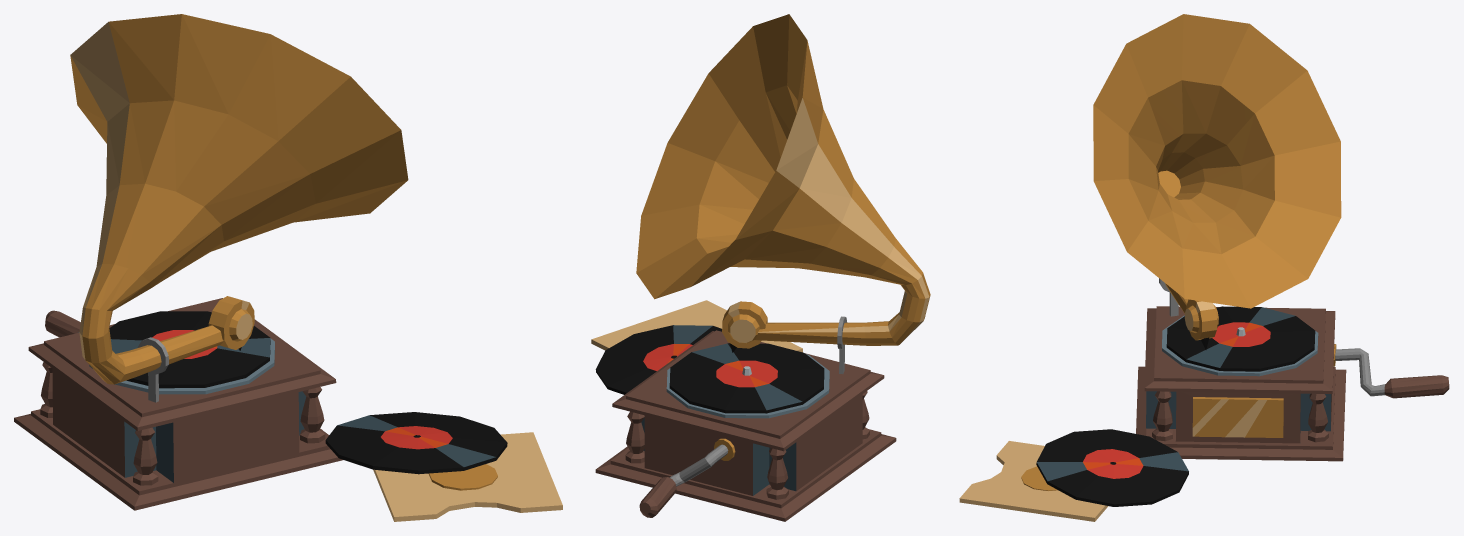
3 views of the same model, side by side, from view 1: azimuth 30°, elevation 25°; view 2: azimuth 150°, elevation 25°; view 3: azimuth 270°, elevation 25° (orthographic). The views are drawn at different scales.
Parts seen in each view (by area): view 1: node_MeshObject1441006592-PolyPaper20; view 2: node_MeshObject1441006592-PolyPaper20; view 3: node_MeshObject1441006592-PolyPaper20.
Boxes of the visible parts, box(x1,y1,x2,y2) form: node_MeshObject1441006592-PolyPaper20: box(14, 14, 562, 521); node_MeshObject1441006592-PolyPaper20: box(591, 14, 930, 521); node_MeshObject1441006592-PolyPaper20: box(959, 14, 1449, 521).
Bounding box in the file's own units: 0.9027 × 0.9511 × 1.09.
